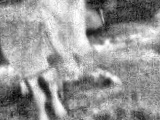eye: (44, 9, 63, 24)
